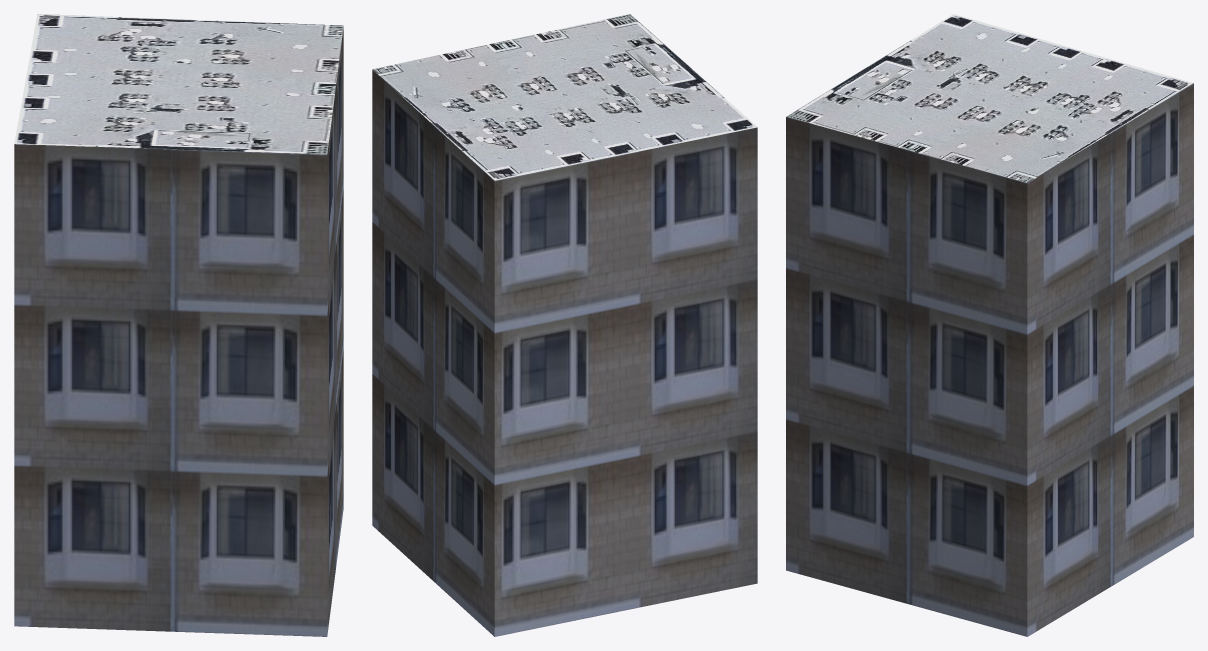
File: ResTex__1845.fbx
The picture shows the model from 3 angles, left to right: view 1: azimuth 30°, elevation 25°; view 2: azimuth 150°, elevation 25°; view 3: azimuth 270°, elevation 25°; orthographic projection. The views are drawn at different scales.
Parts seen in each view (by area): view 1: CityEngineMaterial_3_m, CityEngineMaterial_8_m; view 2: CityEngineMaterial_3_m, CityEngineMaterial_8_m; view 3: CityEngineMaterial_3_m, CityEngineMaterial_8_m.
Part boxes in pixels (x1,y1,x2,y2): CityEngineMaterial_3_m: (14,28,343,636); CityEngineMaterial_8_m: (14,14,343,154); CityEngineMaterial_3_m: (372,70,757,636); CityEngineMaterial_8_m: (372,14,757,180); CityEngineMaterial_3_m: (786,83,1193,636); CityEngineMaterial_8_m: (786,14,1193,182).
Size of the model in its own units: 7.2 by 9 by 7.33.
2 materials, 2 textured.
